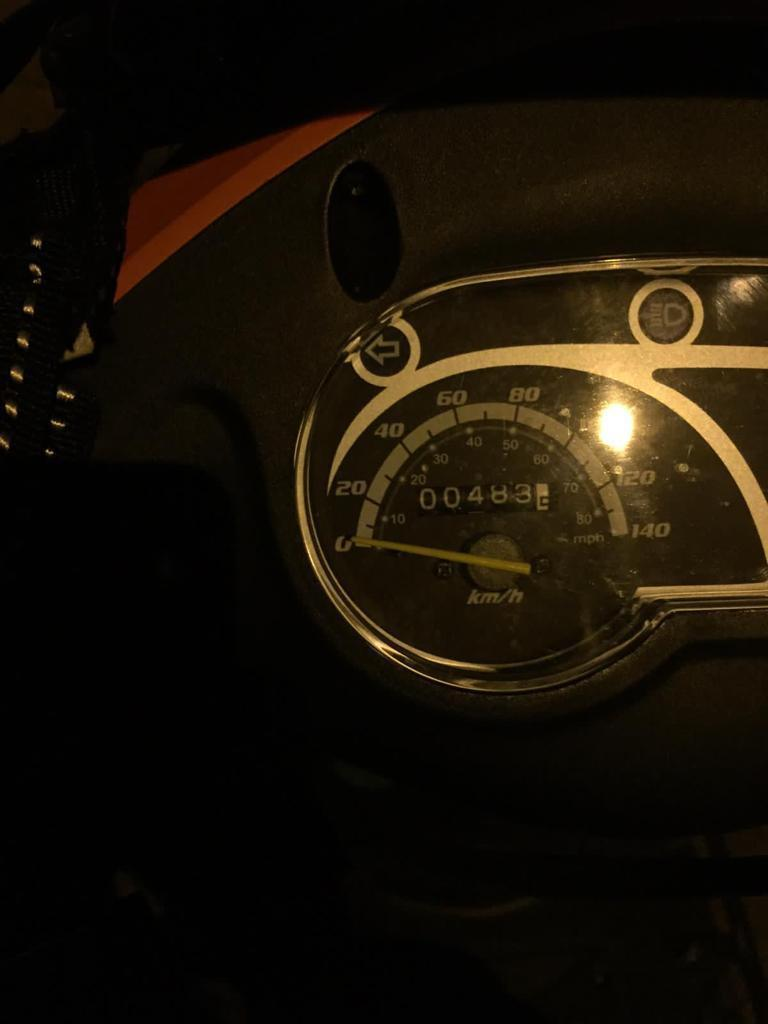0: (442, 484, 462, 510), (418, 486, 437, 510)
3: (514, 483, 533, 506)
4: (467, 484, 484, 505)
5: (537, 492, 554, 512)
8: (490, 482, 509, 505)
odometer: (414, 481, 558, 514)
